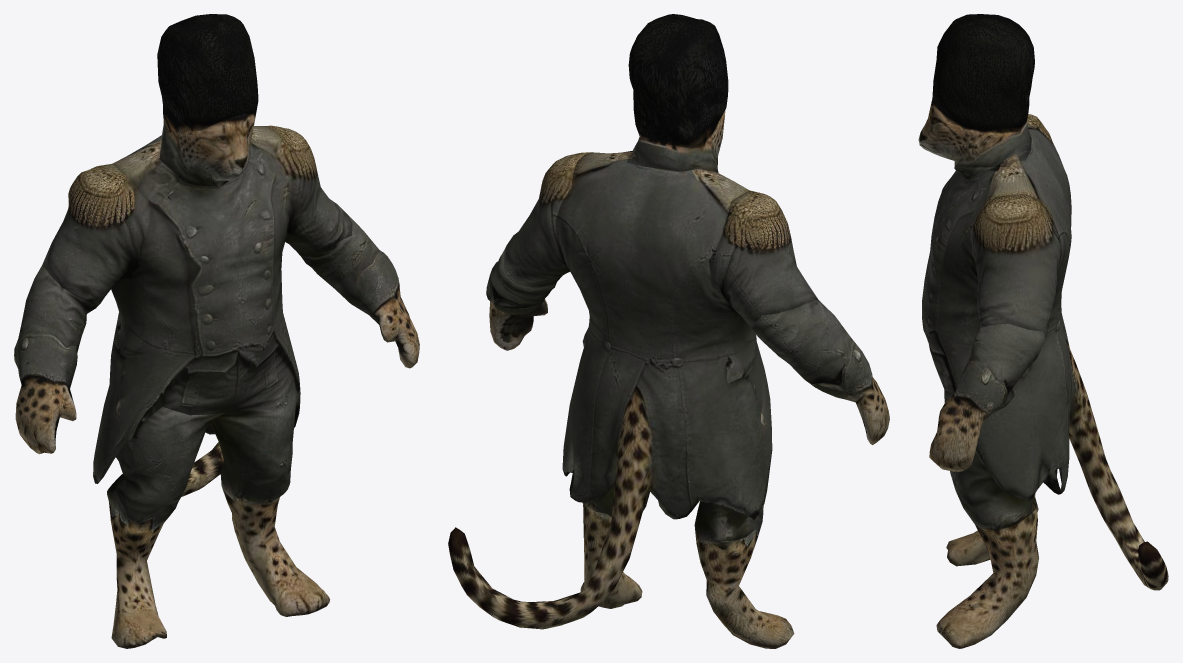
The model's file is infantry_atk_gibs.glb.
The picture shows the model from 3 angles, left to right: view 1: azimuth 30°, elevation 25°; view 2: azimuth 150°, elevation 25°; view 3: azimuth 270°, elevation 25°; orthographic projection. The views are drawn at different scales.
Visible parts, largest first — view 1: Body.001, Arm.R.001, Hat.001, Forarm.R.001, Upleg.R.001, Forarm.L.001, Upleg.L.001, Leg.L.001, head.001, Leg.R.001, Arm.L.001; view 2: Body.001, Hat.001, Arm.R.001, Forarm.R.001, Leg.R.001, Arm.L.001, Forarm.L.001, head.001, Leg.L.001, Upleg.R.001; view 3: Body.001, Hat.001, Arm.L.001, Forarm.L.001, Leg.L.001, head.001, Upleg.L.001, Leg.R.001.
Part boxes in pixels (bbox=[...]): Body.001: bbox=[93, 126, 300, 496]; Arm.R.001: bbox=[42, 163, 151, 304]; Hat.001: bbox=[157, 14, 258, 131]; Forarm.R.001: bbox=[14, 265, 99, 454]; Upleg.R.001: bbox=[107, 406, 224, 530]; Forarm.L.001: bbox=[301, 215, 419, 368]; Upleg.L.001: bbox=[210, 396, 296, 505]; Leg.L.001: bbox=[222, 488, 329, 616]; head.001: bbox=[159, 113, 255, 188]; Leg.R.001: bbox=[109, 502, 166, 648]; Arm.L.001: bbox=[267, 125, 352, 258]; Body.001: bbox=[448, 151, 772, 629]; Hat.001: bbox=[628, 14, 728, 148]; Arm.R.001: bbox=[709, 190, 817, 328]; Forarm.R.001: bbox=[752, 299, 889, 444]; Leg.R.001: bbox=[696, 529, 794, 648]; Arm.L.001: bbox=[503, 152, 591, 288]; Forarm.L.001: bbox=[486, 252, 556, 350]; head.001: bbox=[624, 110, 725, 172]; Leg.L.001: bbox=[580, 505, 642, 608]; Upleg.R.001: bbox=[694, 501, 763, 542]; Body.001: bbox=[922, 123, 1168, 590]; Hat.001: bbox=[932, 14, 1034, 133]; Arm.L.001: bbox=[971, 194, 1060, 338]; Forarm.L.001: bbox=[929, 323, 1046, 471]; Leg.L.001: bbox=[936, 508, 1038, 648]; head.001: bbox=[918, 98, 1031, 173]; Upleg.L.001: bbox=[950, 450, 1036, 530]; Leg.R.001: bbox=[946, 493, 1038, 566].
Size of the model in its own units: 0.6585 by 0.9708 by 0.3789.
Materials: 2 (1 with a texture image).
